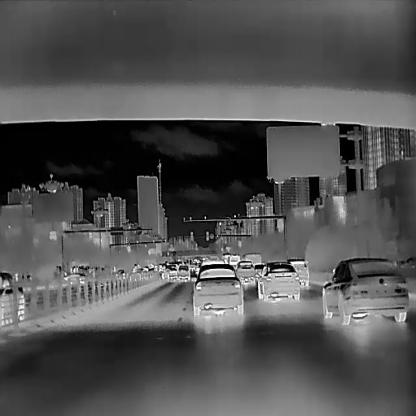car: (322, 257, 409, 324), (190, 262, 244, 315), (256, 261, 300, 301), (0, 271, 25, 324), (285, 258, 309, 286), (234, 260, 255, 284), (62, 272, 86, 284), (160, 265, 178, 279), (177, 264, 190, 280), (254, 262, 265, 276)
truck: (242, 253, 261, 268)
